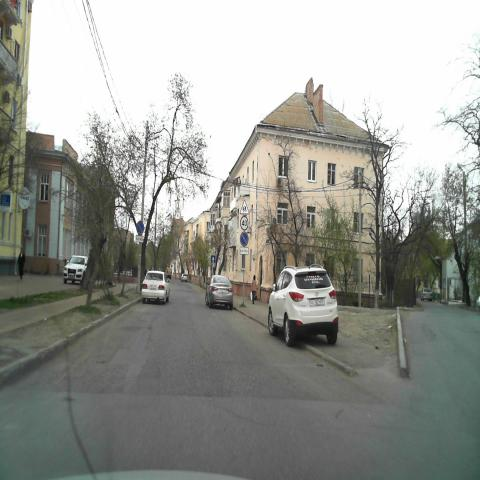3_28: (239, 231, 248, 246), (136, 220, 144, 234)
